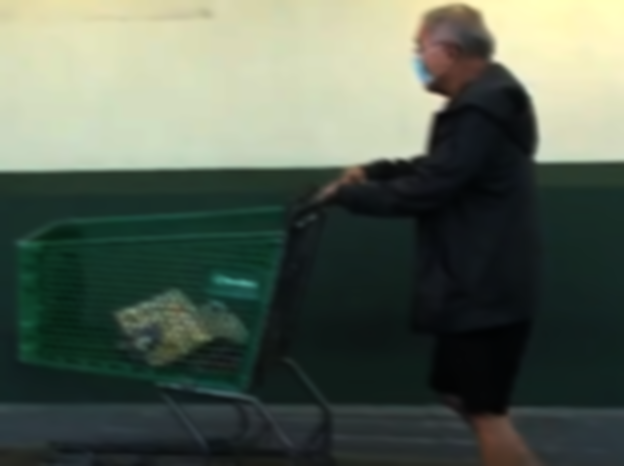mask_weared_incorrect: (407, 3, 462, 95)
